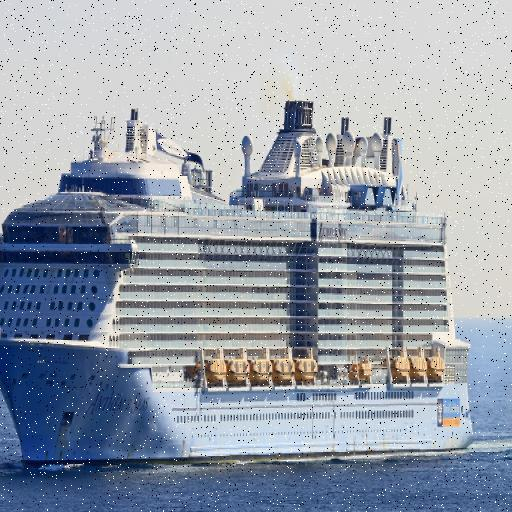cruises: (1, 89, 477, 474)
